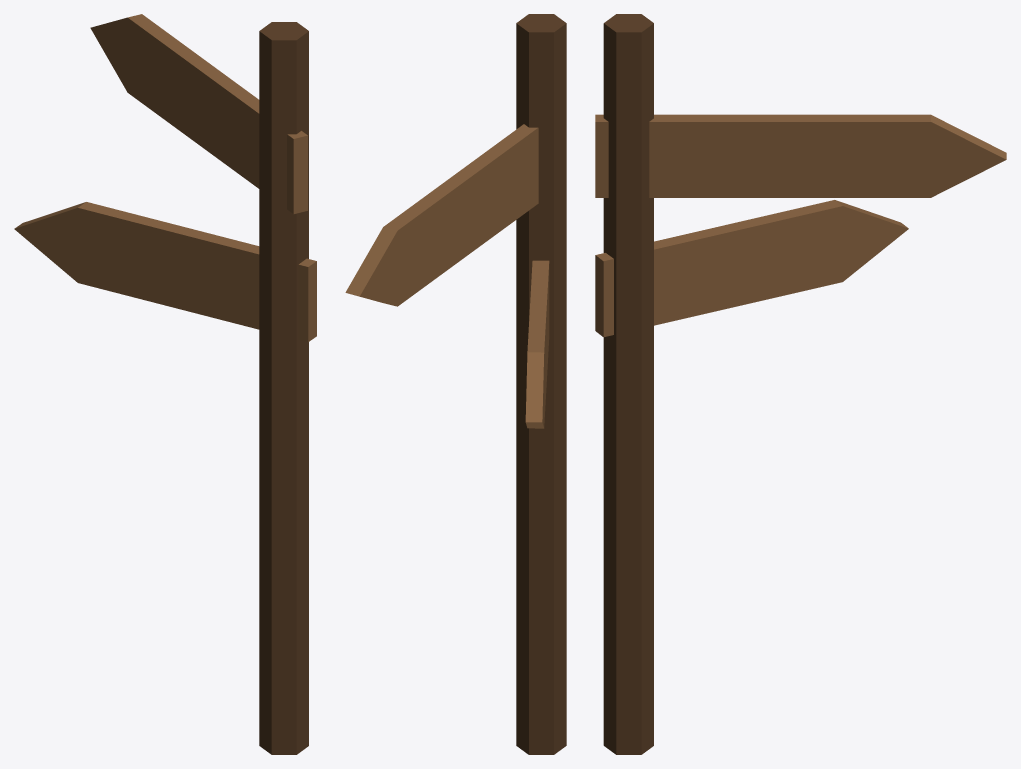
The model's file is kemah-papan.glb.
3 views of the same model, side by side, from view 1: azimuth 30°, elevation 25°; view 2: azimuth 150°, elevation 25°; view 3: azimuth 270°, elevation 25° (orthographic).
Visible parts, largest first — view 1: tiang, panah.001, panah; view 2: tiang, panah, panah.001; view 3: tiang, panah, panah.001.
Boxes of the visible parts, left/top/right/bottom form: tiang: left=259, top=22, right=308, bottom=754; panah.001: left=14, top=202, right=316, bottom=342; panah: left=90, top=14, right=307, bottom=214; tiang: left=516, top=14, right=566, bottom=754; panah: left=345, top=124, right=538, bottom=306; panah.001: left=525, top=260, right=549, bottom=428; tiang: left=603, top=14, right=653, bottom=754; panah: left=595, top=114, right=1006, bottom=197; panah.001: left=595, top=200, right=908, bottom=337.
Bounding box in the file's own units: 0.433 × 1.9 × 0.98.
